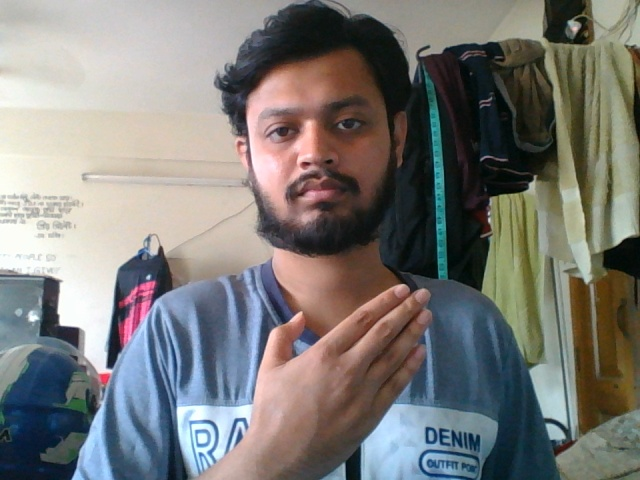ami: (218, 281, 436, 469)
